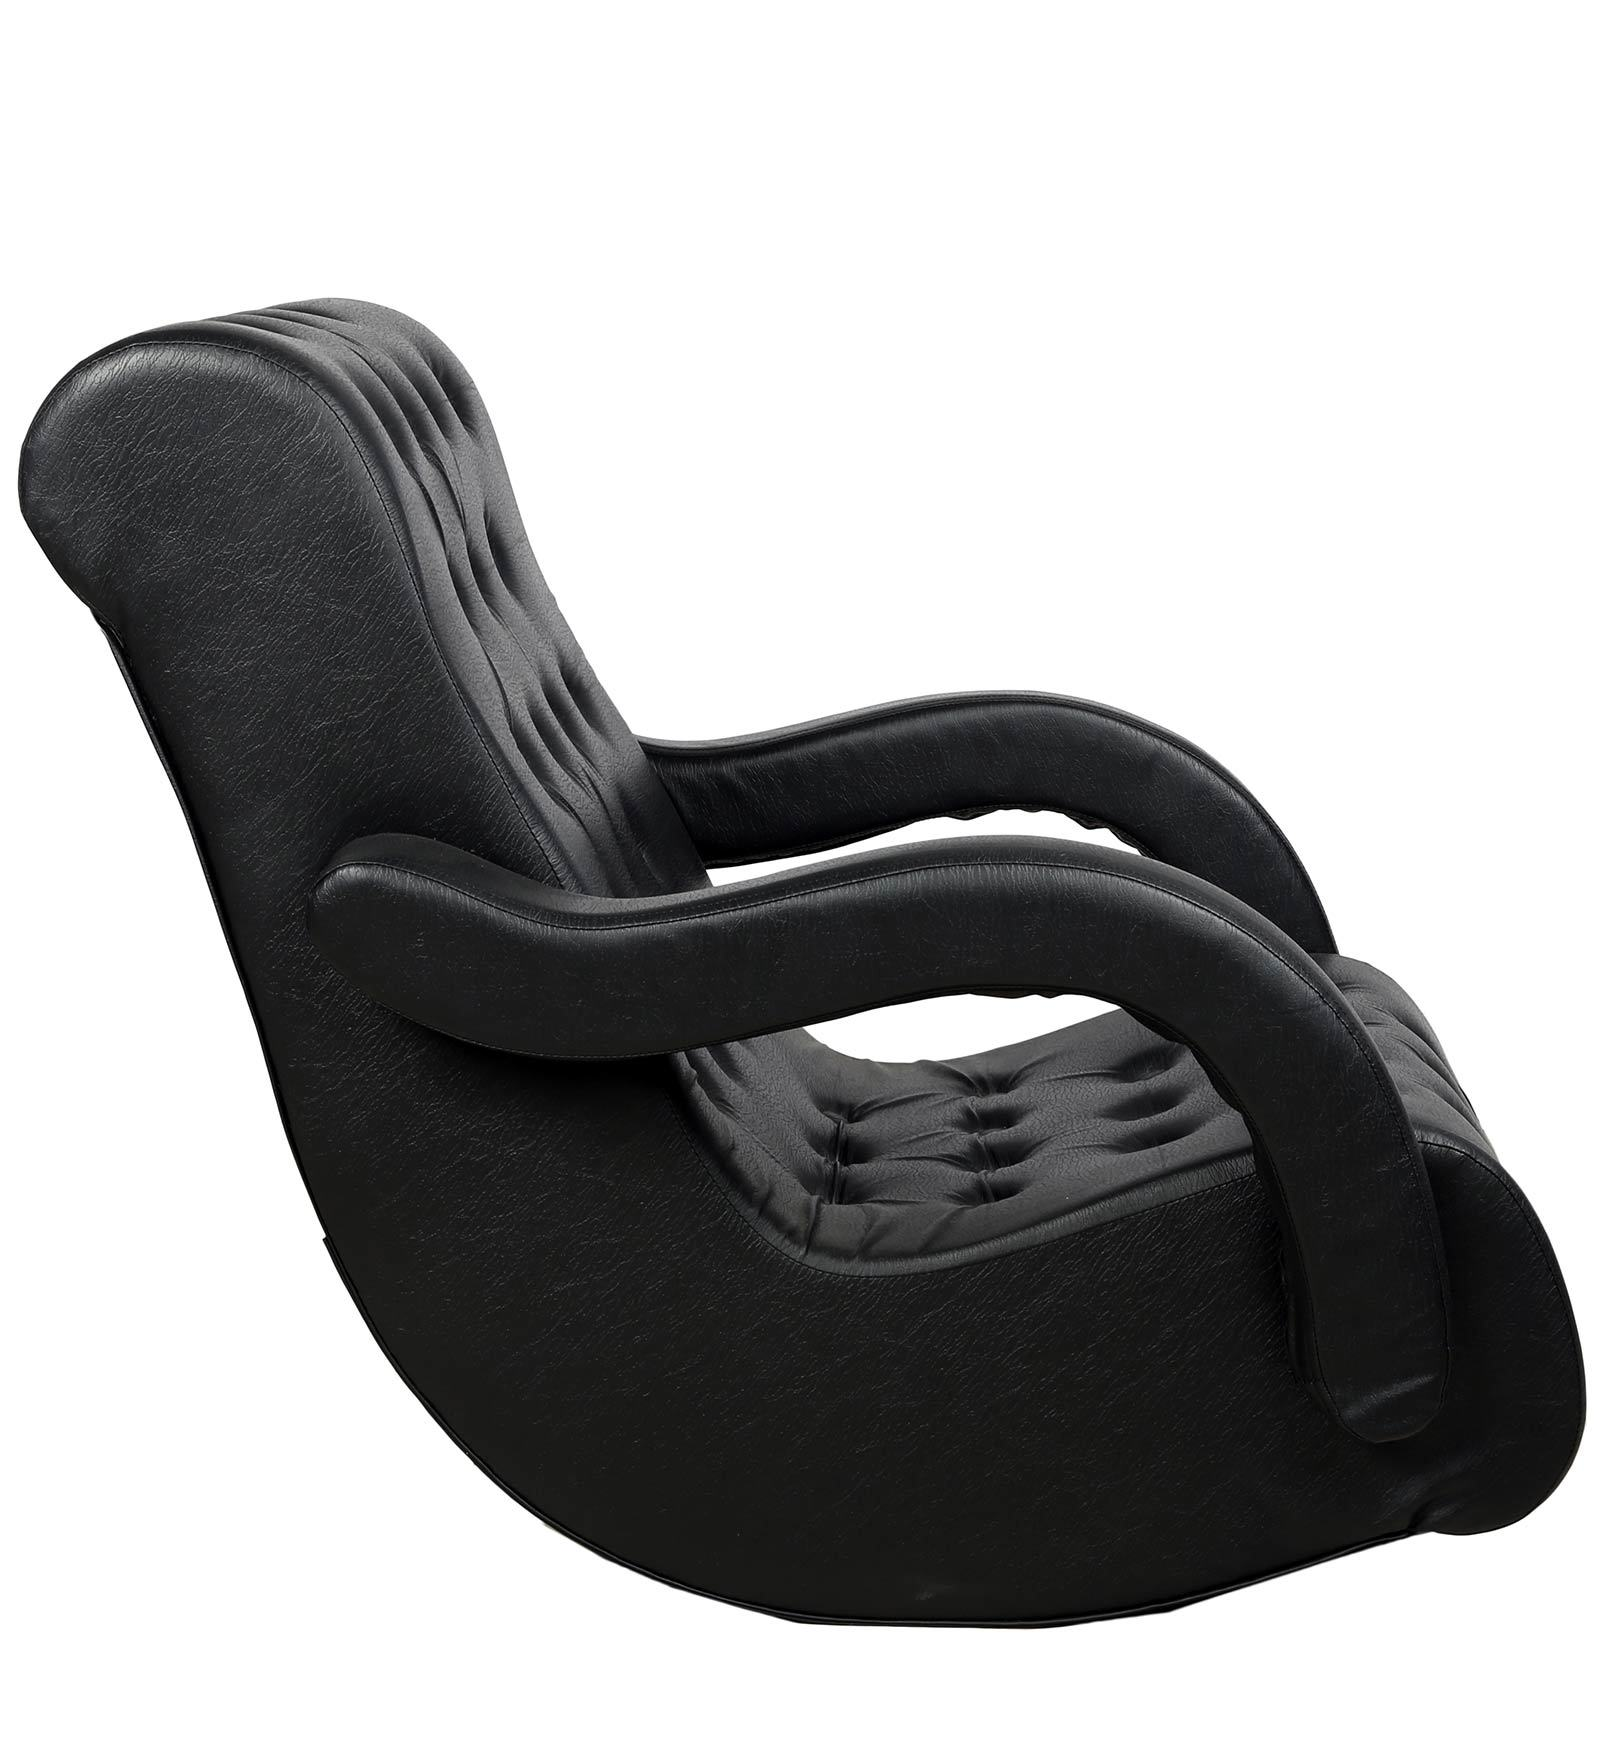Alex Low Seating Rocking Chair with Arm Rest in Black Colour by Parin: (18, 268, 1595, 1703)
